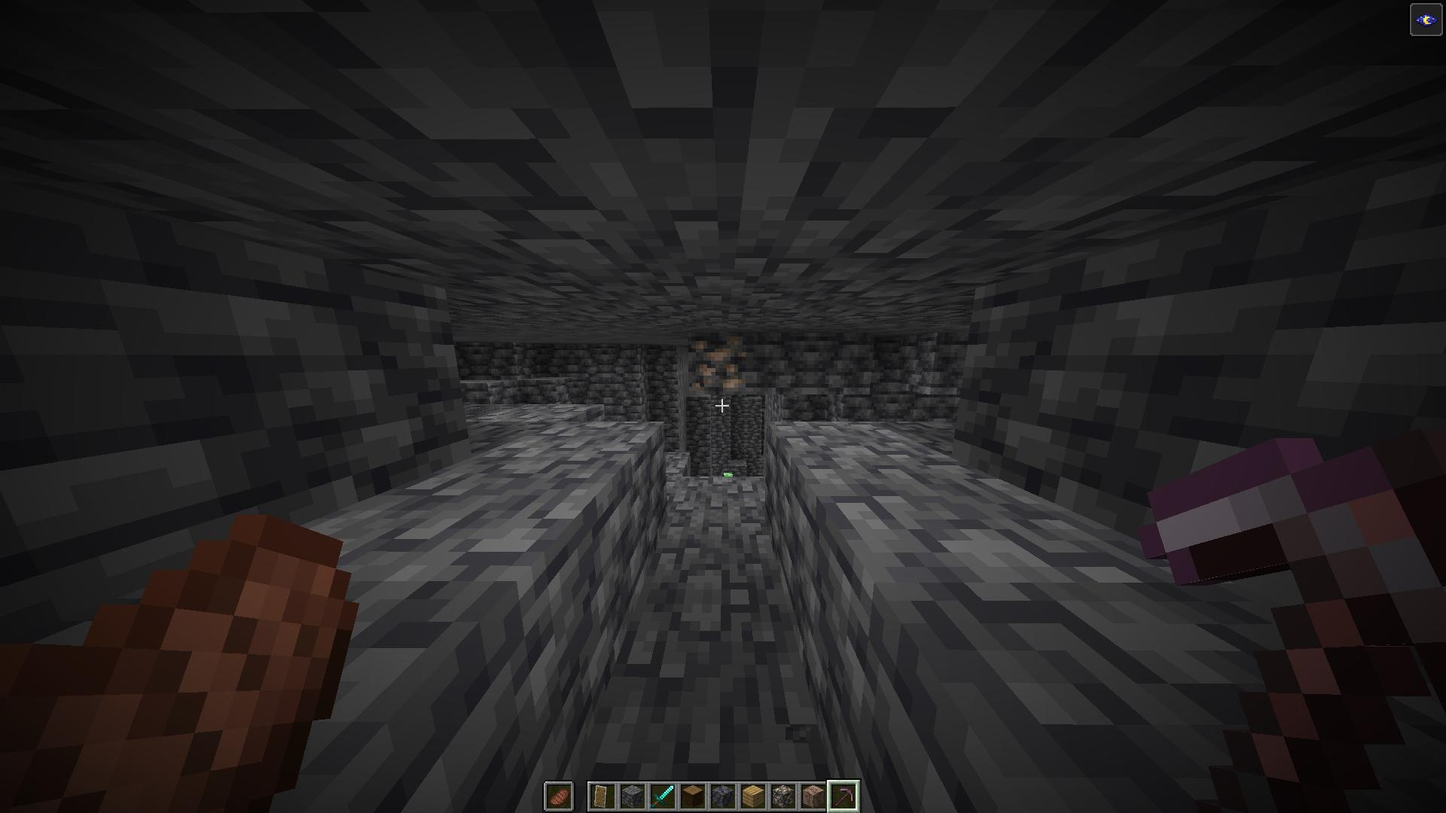iron ore: (686, 333, 751, 393)
